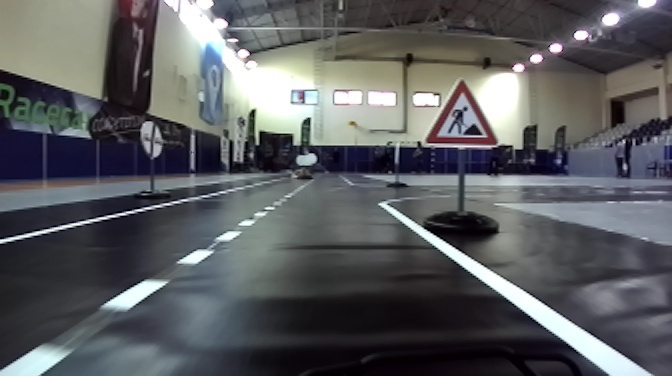yol_yapimi: (422, 81, 498, 149)
